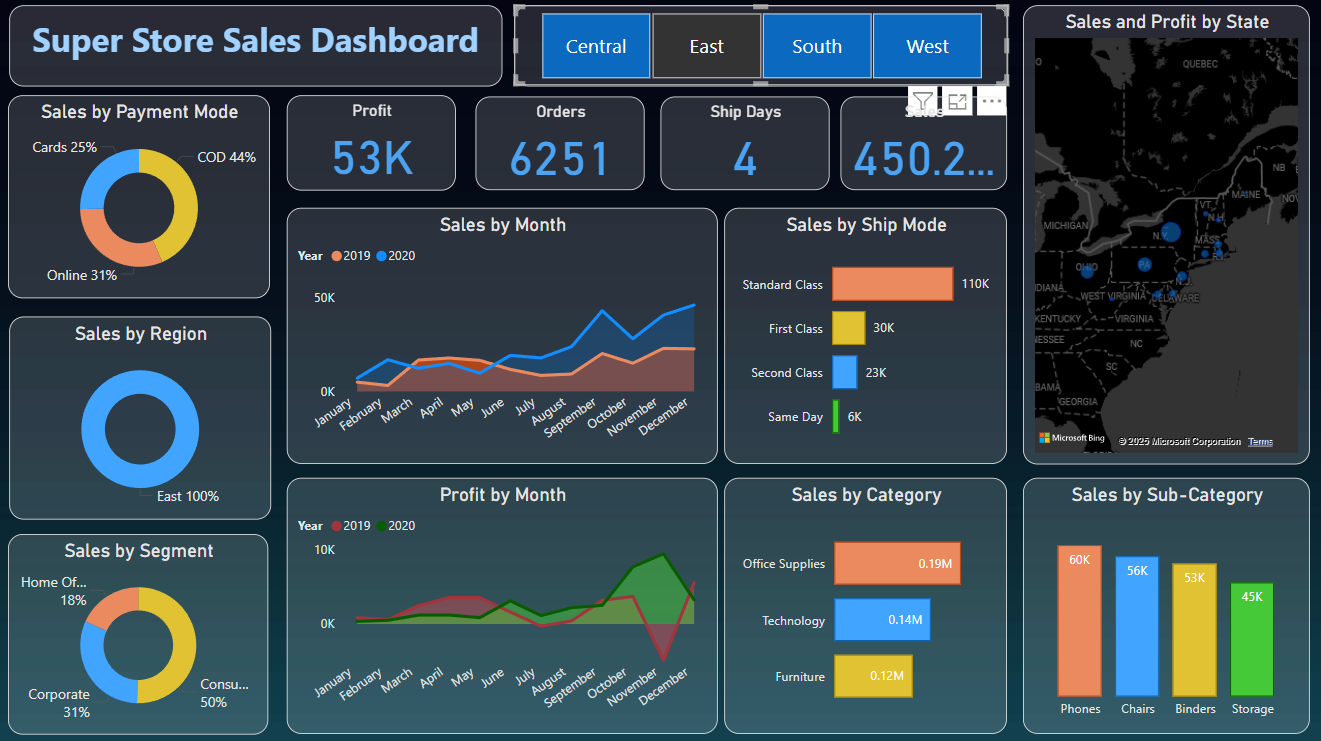

Layout of this report page (visuals, bound fields, positions):
{"tool":"powerbi","page":{"name":"Page 1","canvas":[1280,720],"ordinal":0},"visuals":[{"type":"clusteredBarChart","title":"Sales by Category","fields":{"Category":["Sheet1.Category"],"Y":["Sum(Sheet1.Sales)"]},"box":[701.2,462.4,273.1,247],"z":0},{"type":"clusteredColumnChart","title":"Sales by Sub-Category","fields":{"Category":["Sheet1.Sub-Category"],"Y":["Sum(Sheet1.Sales)"]},"box":[989.4,462.4,277.2,247],"z":1000},{"type":"clusteredBarChart","title":"Sales by Ship Mode","fields":{"Category":["Sheet1.Ship Mode"],"Y":["Sum(Sheet1.Sales)"]},"box":[701.2,201.7,273.1,247],"z":2000},{"type":"areaChart","title":"Sales by Month","fields":{"Series":["Sheet1.Order Date.Variation.Date Hierarchy.Year"],"Category":["Sheet1.Order Date.Variation.Date Hierarchy.Month","Sheet1.Order Date.Variation.Date Hierarchy.Day"],"Y":["Sum(Sheet1.Sales)"]},"box":[278.6,201.7,415.8,247],"z":3000},{"type":"areaChart","title":"Profit by Month ","fields":{"Category":["Sheet1.Order Date.Variation.Date Hierarchy.Month","Sheet1.Order Date.Variation.Date Hierarchy.Day"],"Y":["Sum(Sheet1.Profit)"],"Series":["Sheet1.Order Date.Variation.Date Hierarchy.Year"]},"box":[278.6,462.4,415.8,247],"z":4000},{"type":"map","title":"Sales and Profit by State","fields":{"Category":["Sheet1.State"],"Size":["Sum(Sheet1.Sales)"]},"box":[989.4,5.5,277.2,443.2],"z":5000},{"type":"donutChart","title":"Sales by Segment","fields":{"Category":["Sheet1.Segment"],"Y":["Sum(Sheet1.Sales)"]},"box":[9.6,516,251.1,193.5],"z":6000},{"type":"donutChart","title":"Sales by Payment Mode","fields":{"Category":["Sheet1.Payment Mode"],"Y":["Sum(Sheet1.Sales)"]},"box":[9.6,93.3,252.5,196.2],"z":7000},{"type":"donutChart","title":"Sales by Region","fields":{"Category":["Sheet1.Region"],"Y":["Sum(Sheet1.Sales)"]},"box":[11,306,252.5,196.2],"z":8000},{"type":"slicer","fields":{"Values":["Sheet1.Region"]},"box":[498.1,5.5,476.2,78.2],"z":9000},{"type":"textbox","box":[11,5.5,476.2,78.2],"z":10000},{"type":"card","title":"Sales","fields":{"Values":["Sum(Sheet1.Sales)"]},"box":[813.7,94.7,160.5,90.6],"z":11000},{"type":"card","title":"Orders","fields":{"Values":["Sum(Sheet1.Quantity)"]},"box":[461.1,94.7,163.3,90.6],"z":12000},{"type":"card","title":"Profit","fields":{"Values":["Sum(Sheet1.Profit)"]},"box":[278.6,93.3,163.3,91.9],"z":13000},{"type":"card","title":"Ship Days","fields":{"Values":["Avg(Sheet1.AvgDelivery)"]},"box":[639.5,94.7,163.3,90.6],"z":14000}]}

Visuals, with their boxes in screenshot pixels (x1, y1, x2, y2), scaled from the page's 1280x720 canvas onto the 1321x741 screenshot:
"Sales by Category" clusteredBarChart: Rect(724, 476, 1006, 730)
"Sales by Sub-Category" clusteredColumnChart: Rect(1021, 476, 1307, 730)
"Sales by Ship Mode" clusteredBarChart: Rect(724, 208, 1006, 462)
"Sales by Month" areaChart: Rect(288, 208, 717, 462)
"Profit by Month " areaChart: Rect(288, 476, 717, 730)
"Sales and Profit by State" map: Rect(1021, 6, 1307, 462)
"Sales by Segment" donutChart: Rect(10, 531, 269, 730)
"Sales by Payment Mode" donutChart: Rect(10, 96, 270, 298)
"Sales by Region" donutChart: Rect(11, 315, 272, 517)
slicer - Sheet1.Region: Rect(514, 6, 1006, 86)
textbox: Rect(11, 6, 503, 86)
"Sales" card: Rect(840, 97, 1005, 191)
"Orders" card: Rect(476, 97, 644, 191)
"Profit" card: Rect(288, 96, 456, 191)
"Ship Days" card: Rect(660, 97, 829, 191)
